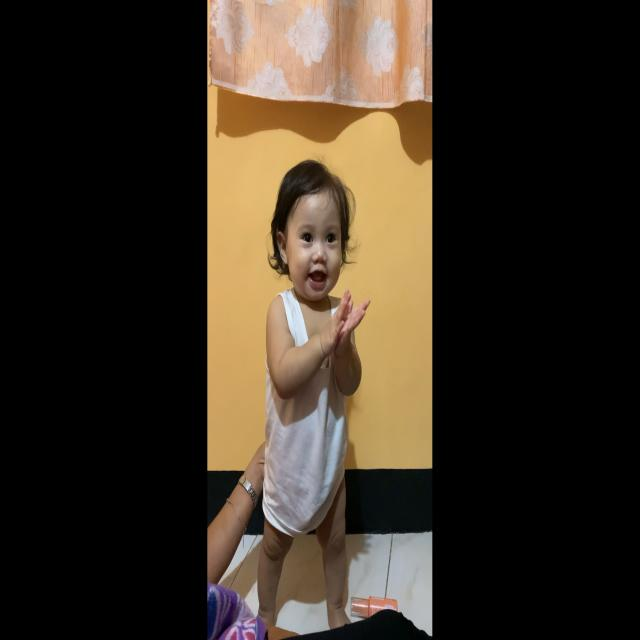child: (256, 159, 372, 633)
